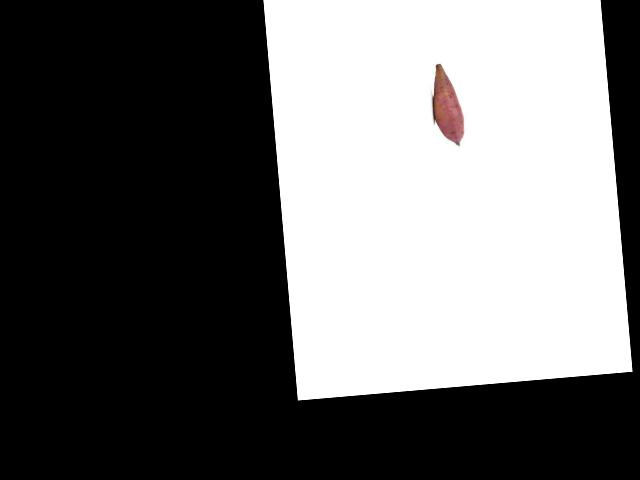sweet_potato: (431, 62, 465, 148)
